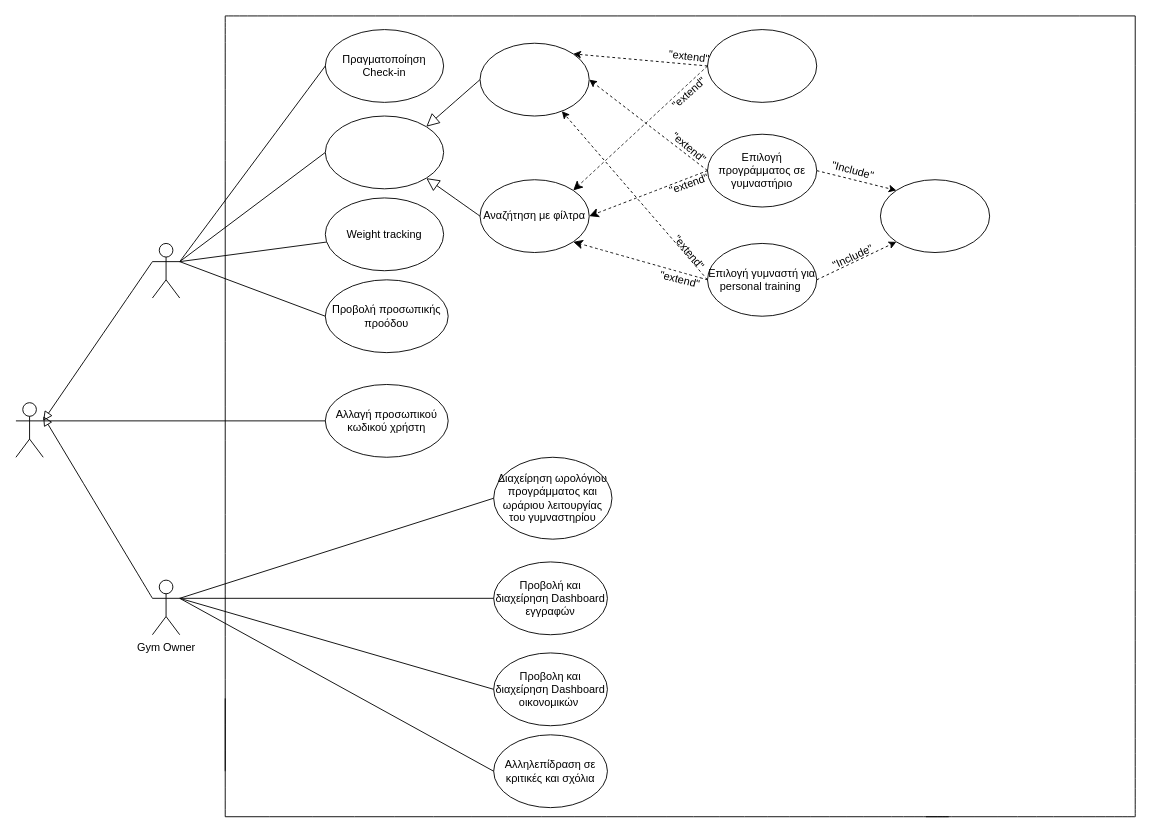
The diagram is 1152 pixels wide and 834 high, and some of its shapes have lost their labels. The centre of each missing label's shape, as x and y in pixels:
Gym Client: the point at 166,270
User: the point at 29,429
Αναζήτηση απο search bar: the point at 534,79
Αναζήτηση γυμvαστηρίου: the point at 384,152
Αξιολόγηση και κριτικές: the point at 762,65
Πληρωμή: the point at 935,216
